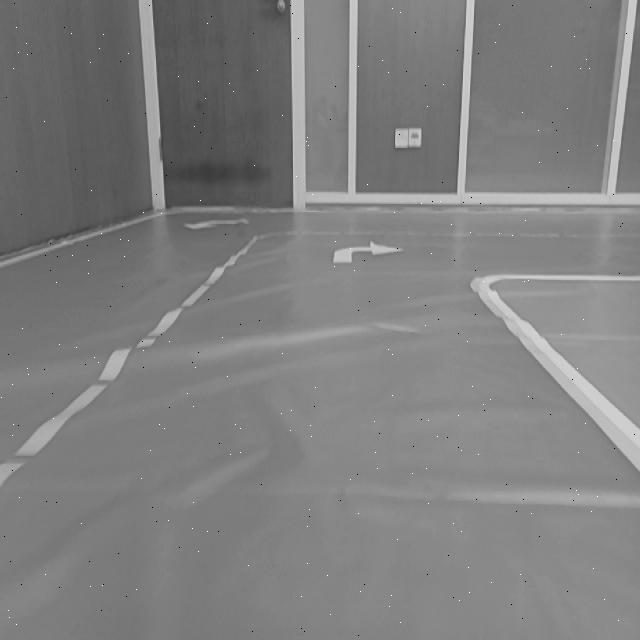left_lane: (0, 238, 257, 485)
right_lane: (473, 287, 640, 474)
